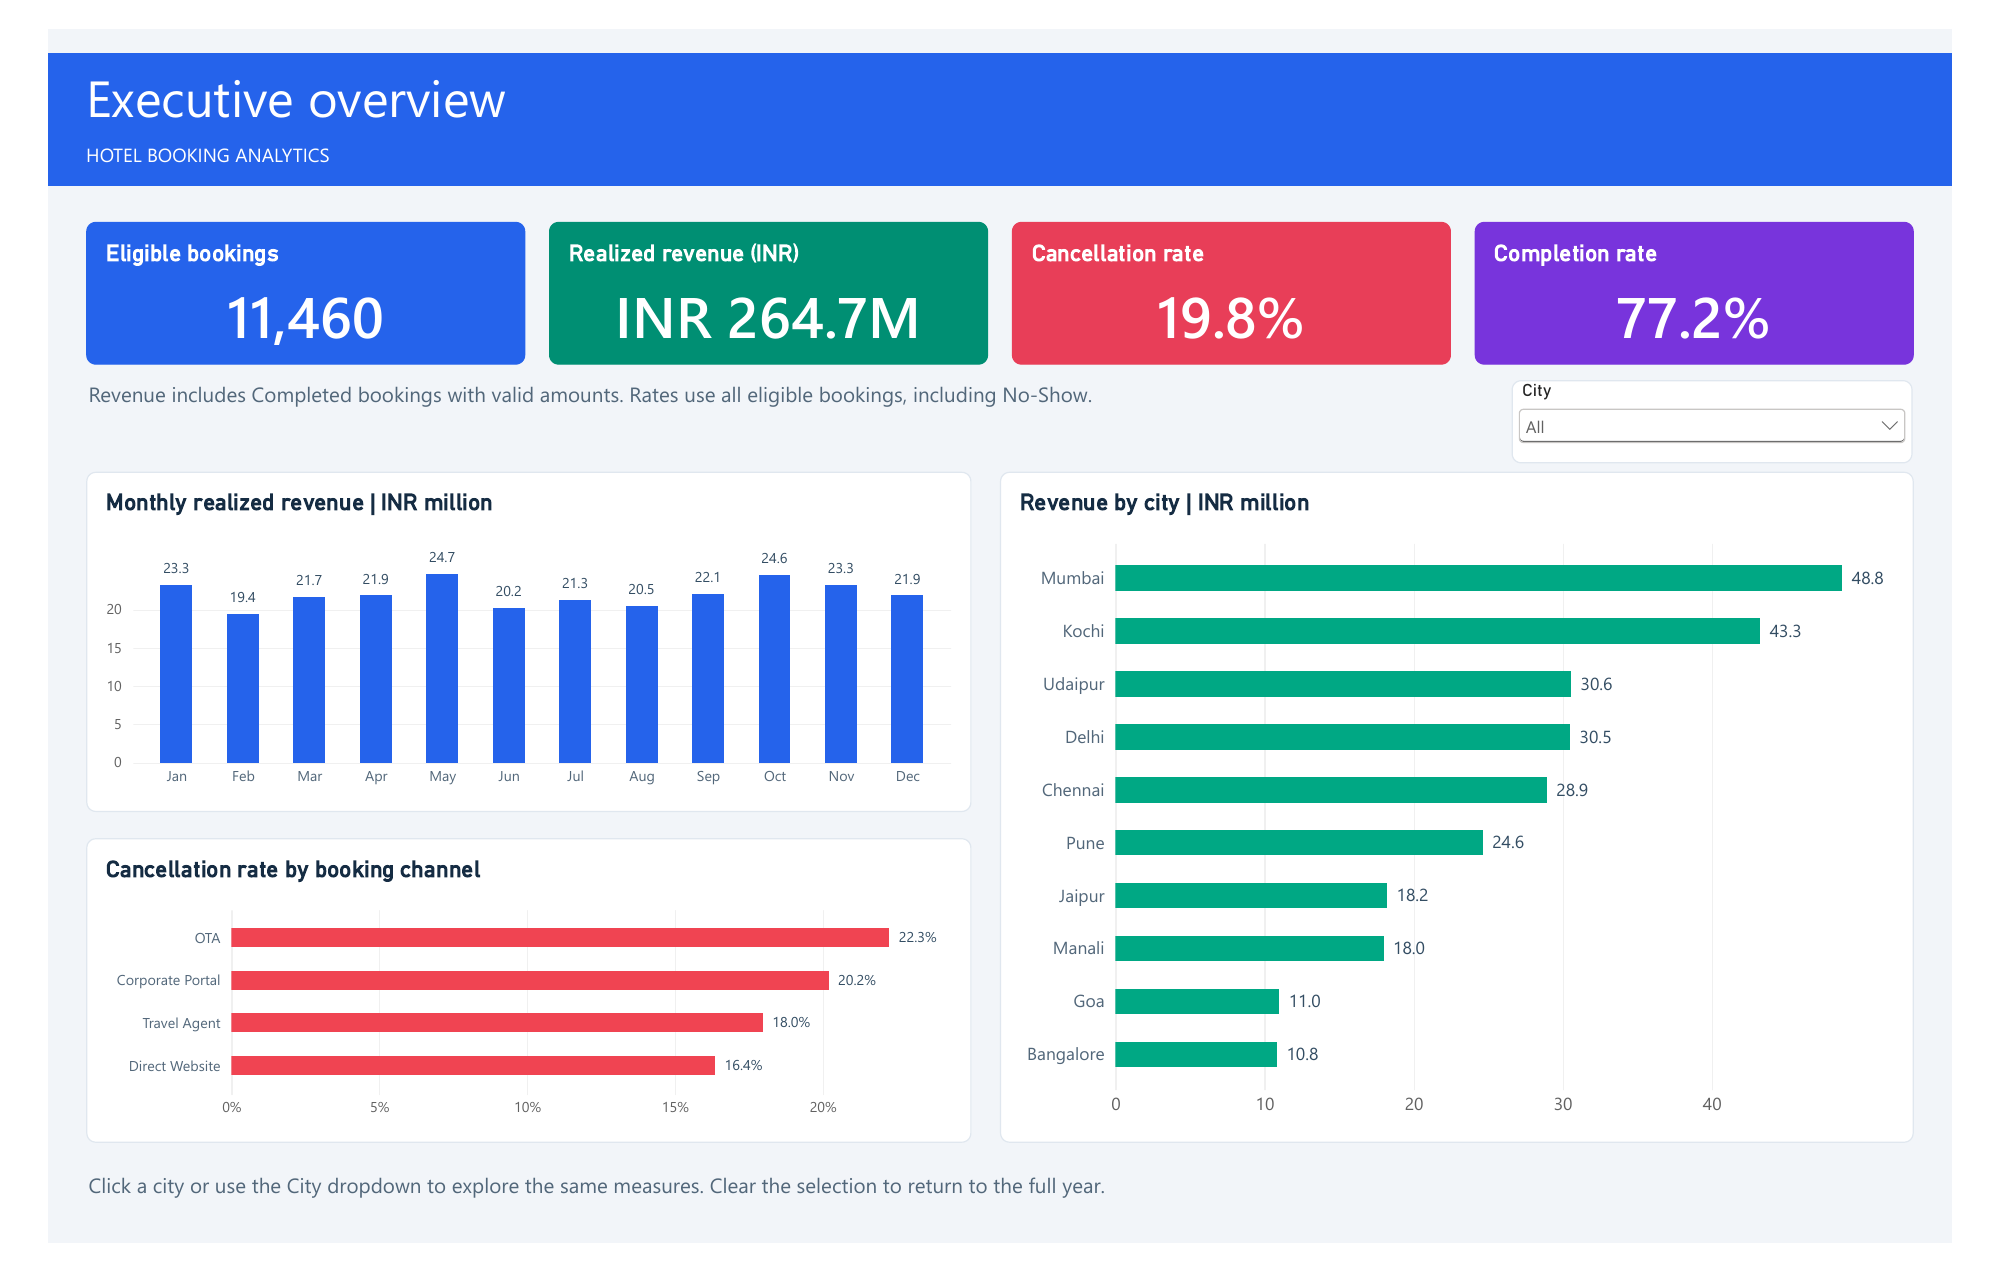

This screenshot's page, from the dashboard's own definition file:
{"tool":"powerbi","page":{"name":"01 Executive overview","canvas":[1600,1000],"ordinal":0},"visuals":[{"type":"textbox","box":[0,0,1600,112],"z":0},{"type":"textbox","box":[32,8,1536,90],"z":1000},{"type":"textbox","box":[32,75,1450,28],"z":1000},{"type":"card","title":"Eligible bookings","fields":{"Values":["Bookings.Total Bookings"]},"box":[32,142,369,120],"z":1000},{"type":"card","title":"Realized revenue (INR)","fields":{"Values":["Bookings.Realized Revenue"]},"box":[421,142,369,120],"z":1000},{"type":"card","title":"Cancellation rate","fields":{"Values":["Bookings.Cancellation Rate"]},"box":[810,142,369,120],"z":1000},{"type":"card","title":"Completion rate","fields":{"Values":["Bookings.Completion Rate"]},"box":[1199,142,369,120],"z":1000},{"type":"textbox","box":[34,275,1180,32],"z":1000},{"type":"slicer","title":"City","fields":{"Values":["Bookings.property_city"]},"box":[1230,275,337,70],"z":1000},{"type":"clusteredColumnChart","title":"Monthly realized revenue | INR million","fields":{"Category":["Bookings.month_label"],"Y":["Bookings.Revenue Millions"]},"box":[32,352,744,286],"z":1000},{"type":"clusteredBarChart","title":"Revenue by city | INR million","fields":{"Category":["Bookings.property_city"],"Y":["Bookings.Revenue Millions"]},"box":[800,352,768,564],"z":1000},{"type":"clusteredBarChart","title":"Cancellation rate by booking channel","fields":{"Category":["Bookings.booking_channel"],"Y":["Bookings.Cancellation Rate"]},"box":[32,660,744,256],"z":1000},{"type":"textbox","box":[34,940,1530,42],"z":1000}]}

Visuals, with their boxes in screenshot pixels (x1, y1, x2, y2), scaled from the page's 1600x1000 canvas onto the 2000x1272 screenshot:
textbox: [left=0, top=0, right=1999, bottom=142]
textbox: [left=40, top=10, right=1960, bottom=125]
textbox: [left=40, top=95, right=1852, bottom=131]
"Eligible bookings" card: [left=40, top=181, right=501, bottom=333]
"Realized revenue (INR)" card: [left=526, top=181, right=988, bottom=333]
"Cancellation rate" card: [left=1012, top=181, right=1474, bottom=333]
"Completion rate" card: [left=1499, top=181, right=1960, bottom=333]
textbox: [left=42, top=350, right=1518, bottom=391]
"City" slicer: [left=1538, top=350, right=1959, bottom=439]
"Monthly realized revenue | INR million" clusteredColumnChart: [left=40, top=448, right=970, bottom=812]
"Revenue by city | INR million" clusteredBarChart: [left=1000, top=448, right=1960, bottom=1165]
"Cancellation rate by booking channel" clusteredBarChart: [left=40, top=840, right=970, bottom=1165]
textbox: [left=42, top=1196, right=1955, bottom=1249]
